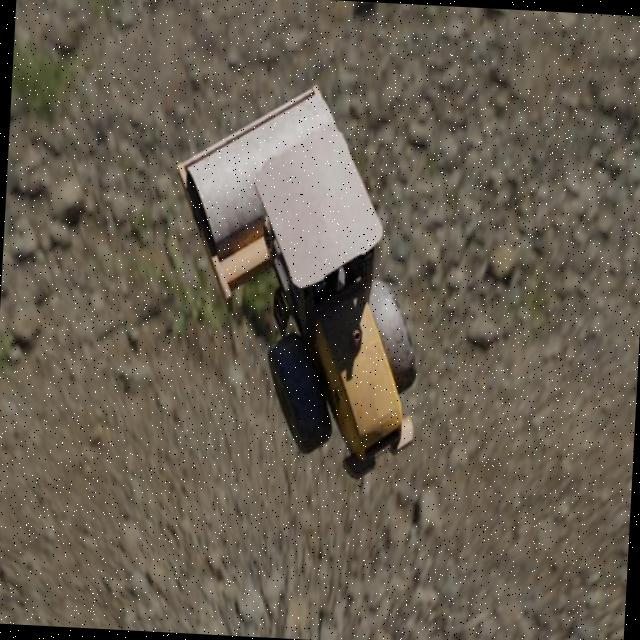Roller: (161, 76, 432, 484)
